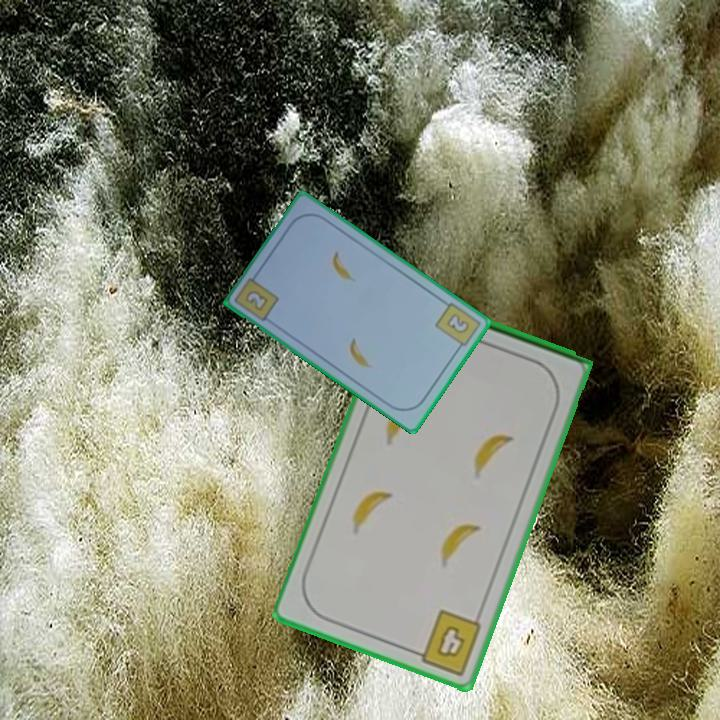2b: (431, 298, 483, 355), (242, 286, 271, 314)
4b: (408, 606, 485, 679)
